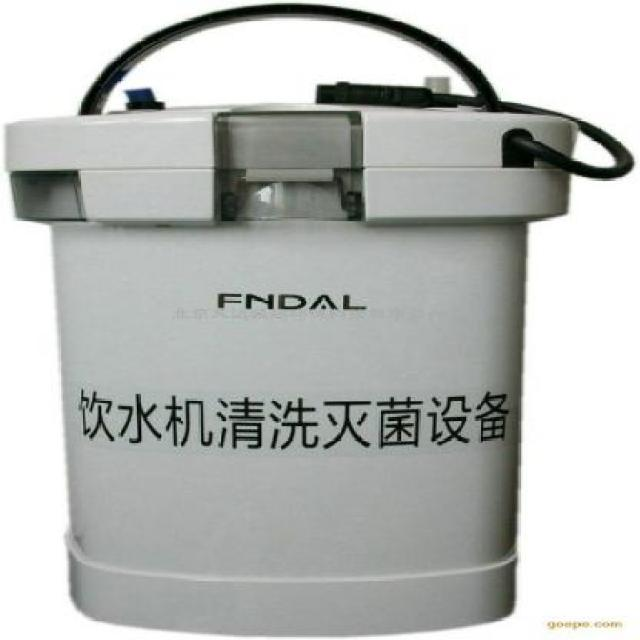cooler: (0, 88, 581, 639)
